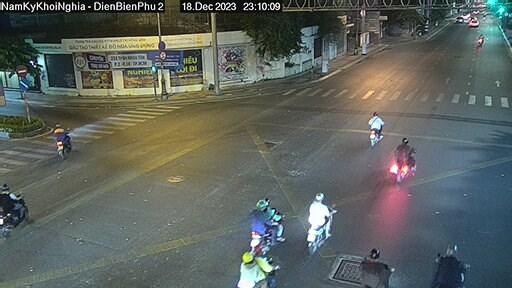motorbike: (294, 188, 346, 257), (235, 191, 283, 257), (348, 239, 401, 286), (230, 246, 287, 288), (2, 175, 37, 240), (430, 241, 474, 283), (388, 141, 425, 183), (43, 121, 79, 158), (359, 111, 382, 135), (472, 30, 492, 46)
